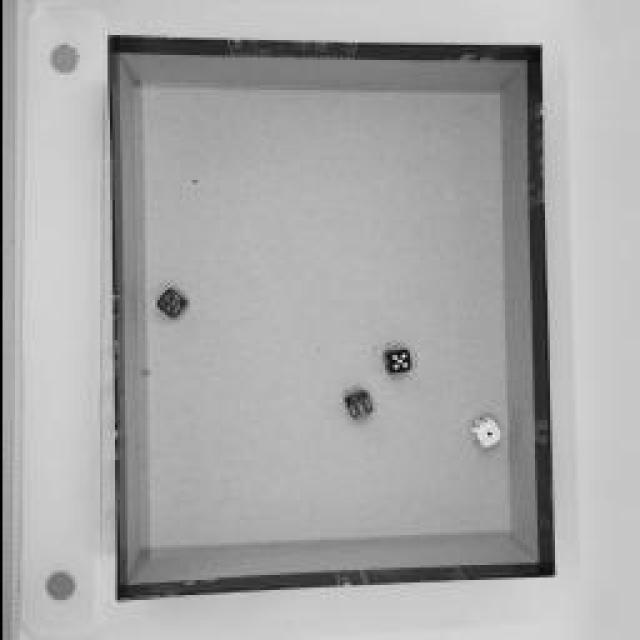dice_1: (464, 412, 501, 452)
dice_4: (150, 285, 185, 323)
dice_5: (380, 345, 410, 375)
dice_6: (340, 390, 372, 420)
